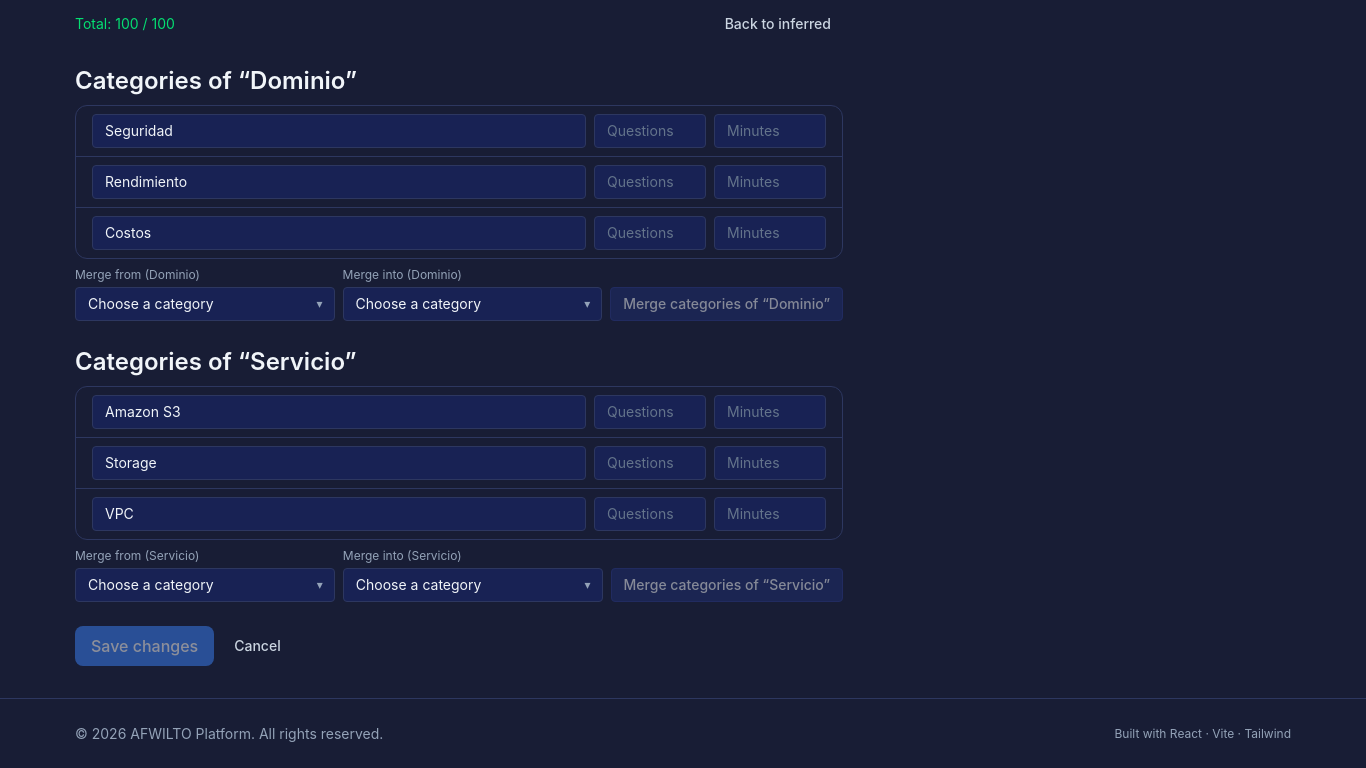
Test: ExamEditPage: merging categories (S08-5) › merging "Storage" into "Amazon S3" asks for confirmation naming both, sends {from, into} and refreshes
(page scrolled)
Select "Storage" in the dropdown labelled "Merge from (Servicio)". click: (205, 585)
box: x1=75 y1=568 x2=335 y2=602
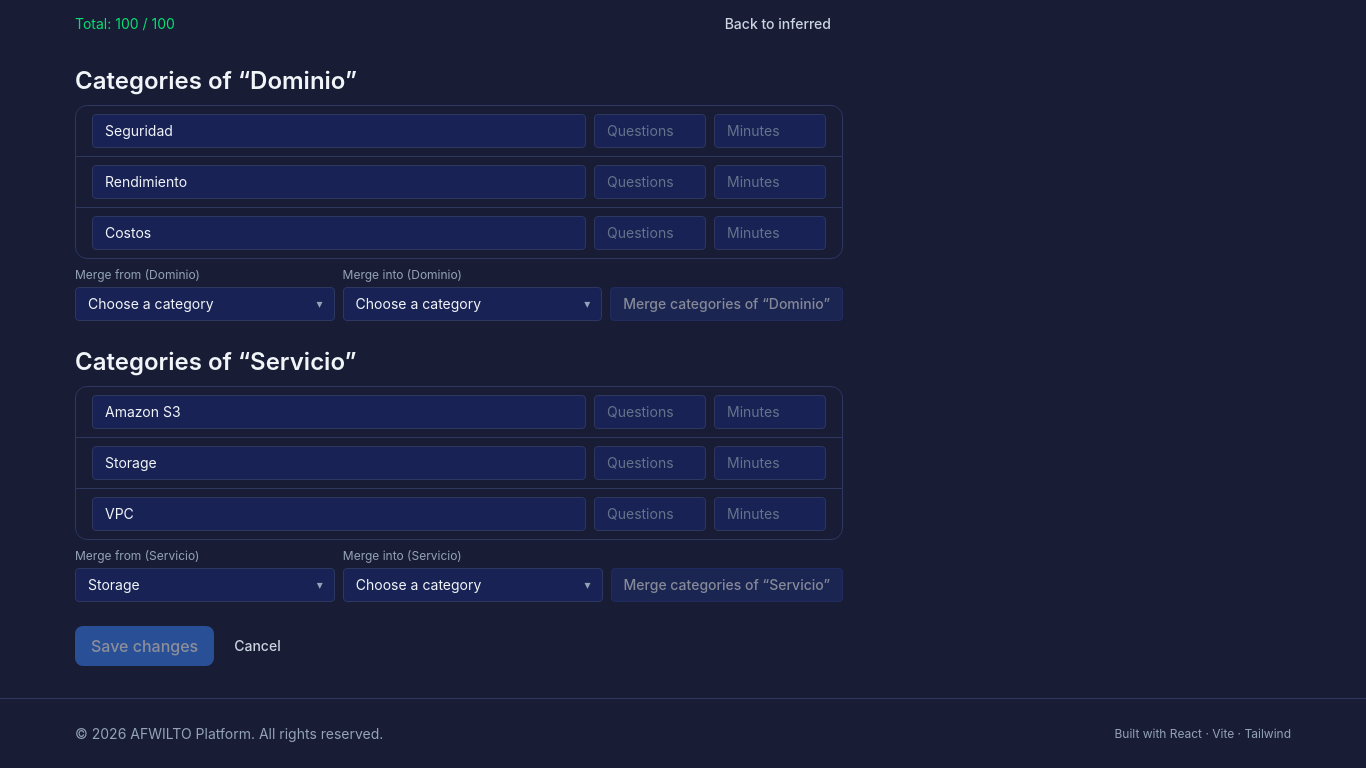
Select "Amazon S3" in the dropdown labelled "Merge into (Servicio)". click: (473, 585)
box: x1=343 y1=568 x2=603 y2=602
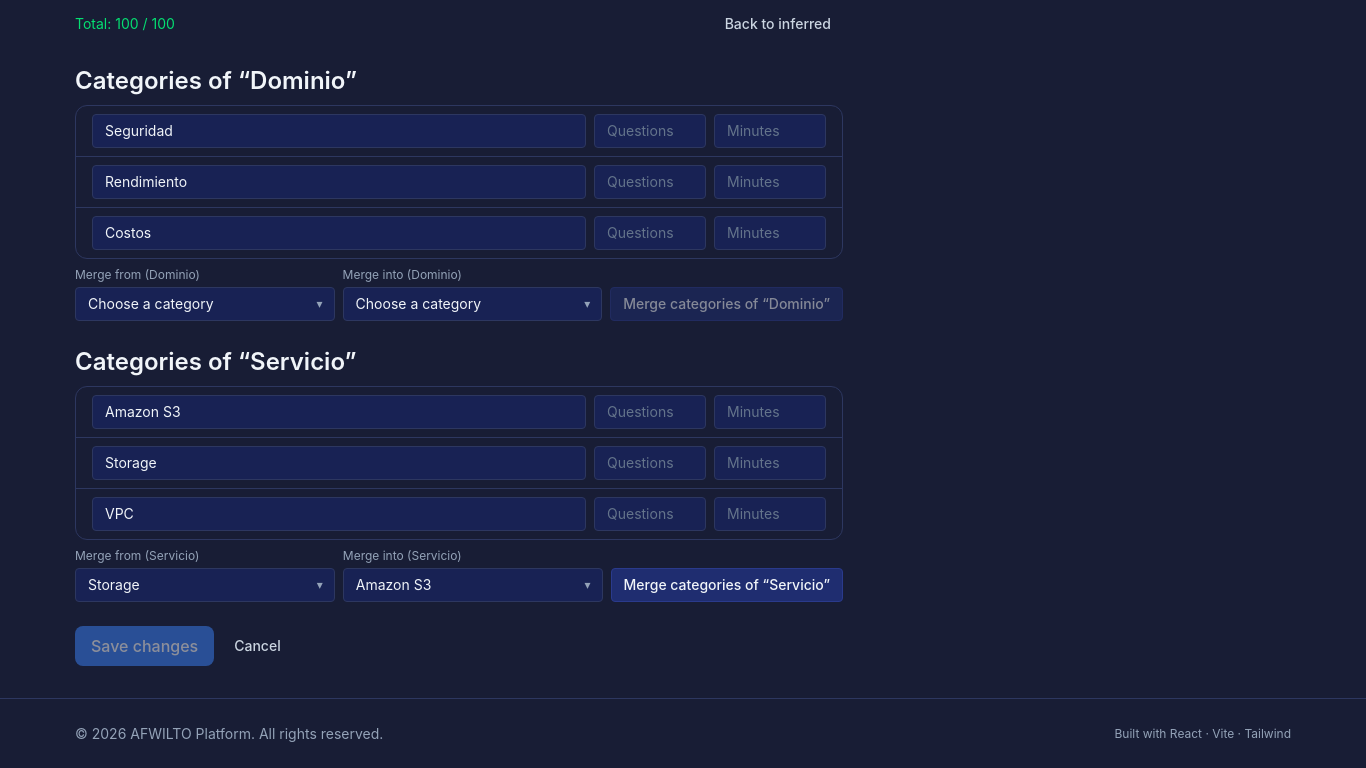
Click the button "Merge categories of “Servicio”". click: (727, 585)
box: x1=611 y1=568 x2=843 y2=602
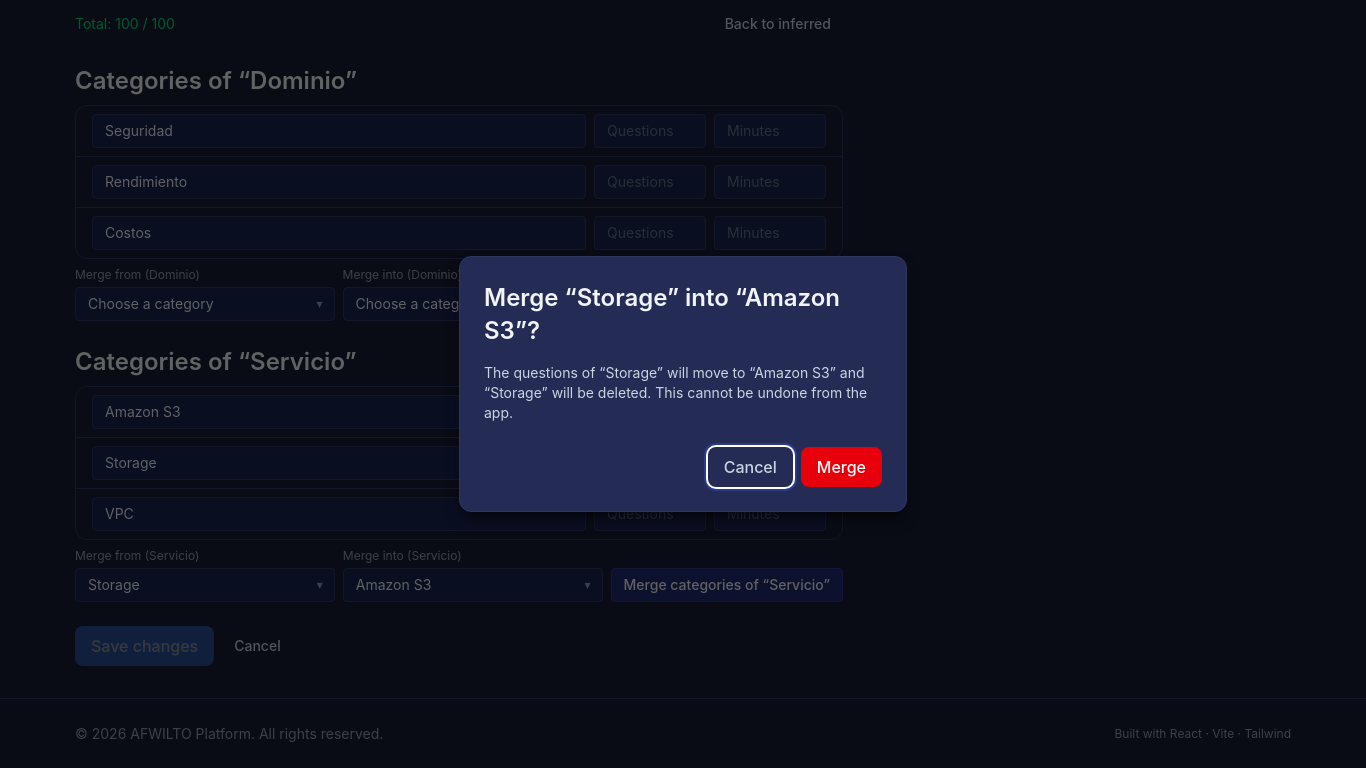
expect the text "The questions of “Storage” will move to “Amazon S3”" is shown: met, box x1=484 y1=363 x2=882 y2=423
Click the button "Merge". click: (841, 467)
box: x1=801 y1=447 x2=882 y2=487
(page scrolled)
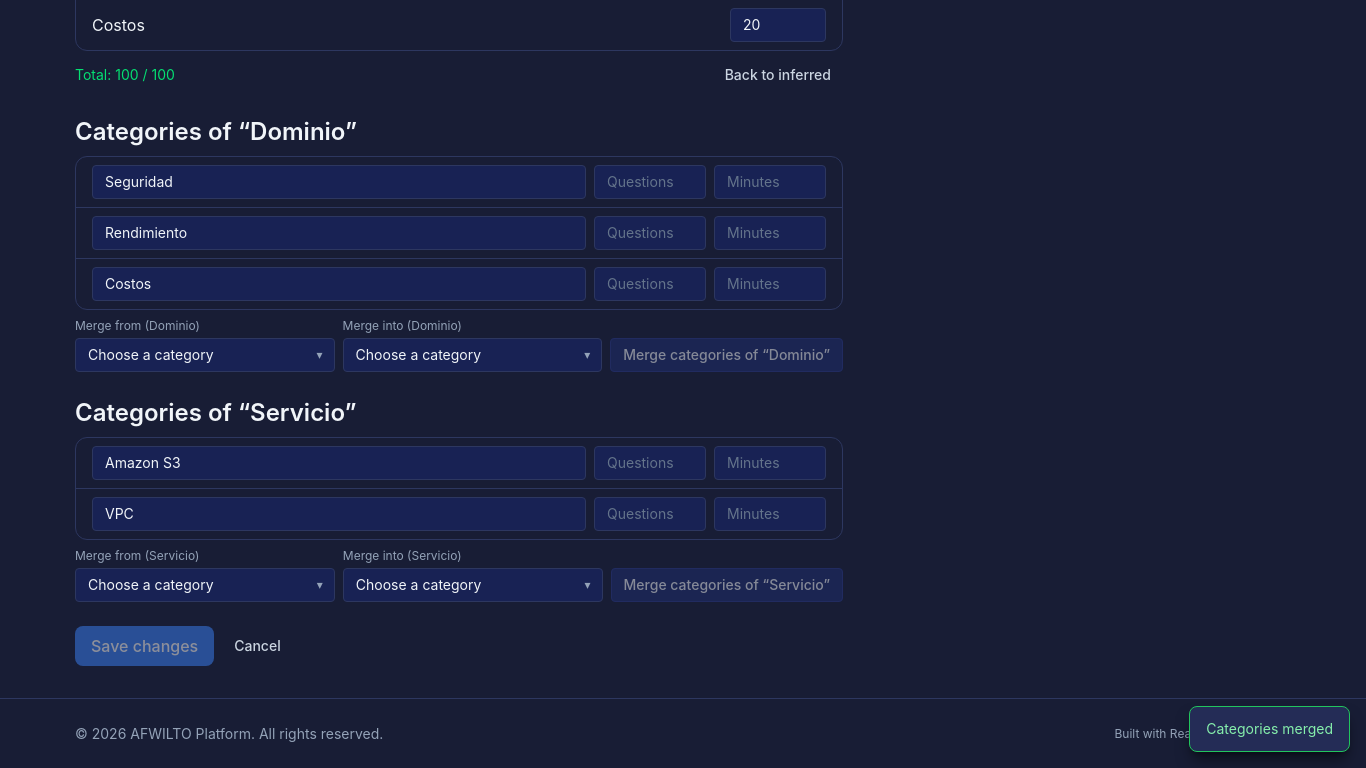
expect the field named "Name of “Amazon S3”" is shown: met, box x1=92 y1=446 x2=586 y2=480
expect the text "Categories merged" is shown: met, box x1=1189 y1=706 x2=1350 y2=752
